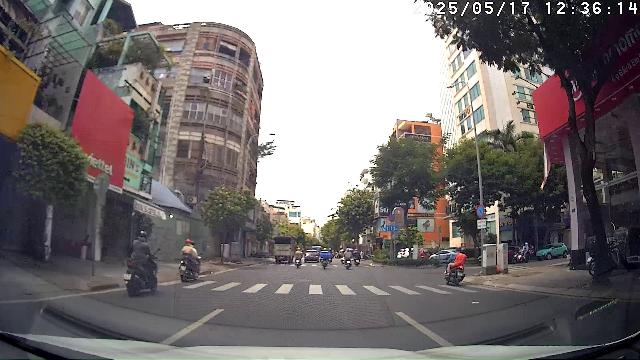131a-cam-do-xe: (476, 204, 485, 218)
